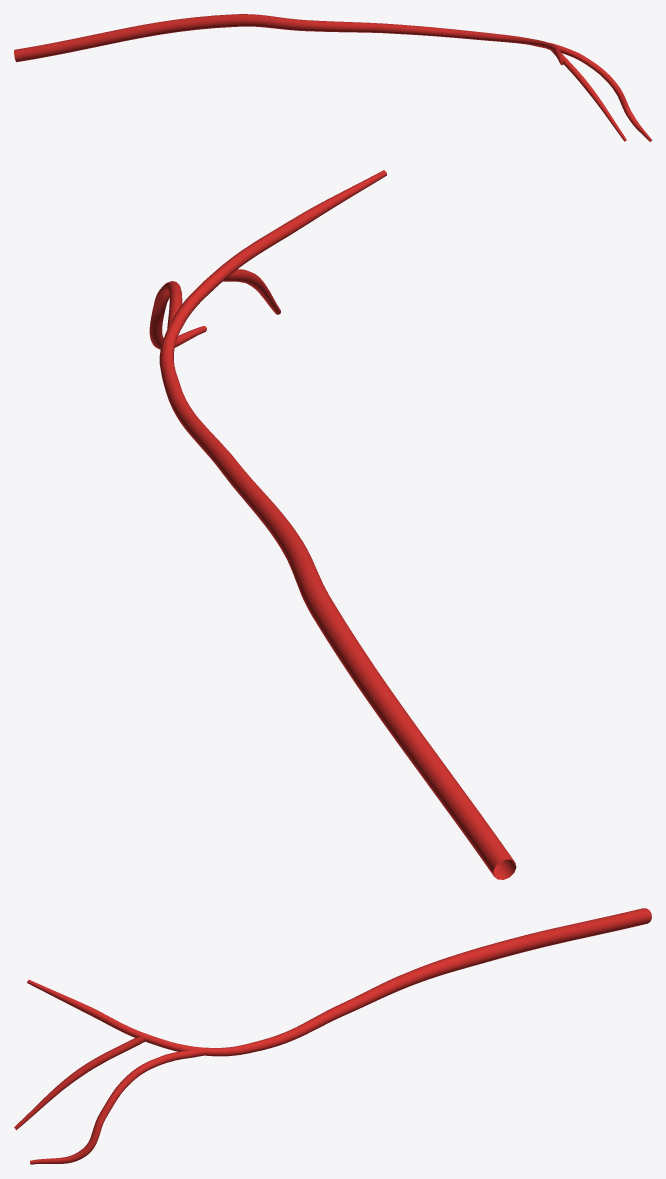
File: circulatorio-lacrimal-artery-l.glb
3 views of the same model, one above another, from view 1: azimuth 30°, elevation 25°; view 2: azimuth 150°, elevation 25°; view 3: azimuth 270°, elevation 25° (orthographic). The views are drawn at different scales.
Visible parts, largest first — view 1: Lacrimal artery.l; view 2: Lacrimal artery.l; view 3: Lacrimal artery.l.
Boxes of the visible parts, x1,y1,x2,y2 form: Lacrimal artery.l: (14,14,651,141); Lacrimal artery.l: (149,170,516,879); Lacrimal artery.l: (14,908,651,1164).
Bounding box in the file's own units: 0.029 × 0.00717 × 0.0316.
